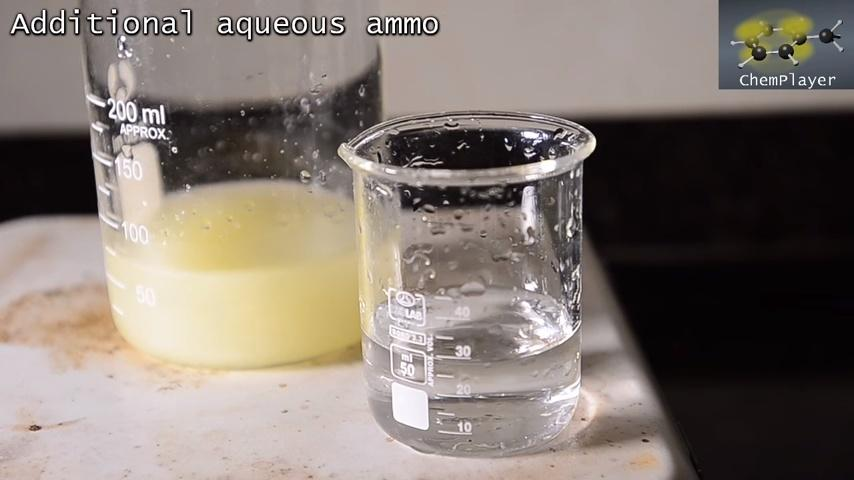Beaker: (68, 30, 386, 362), (338, 109, 600, 457)
